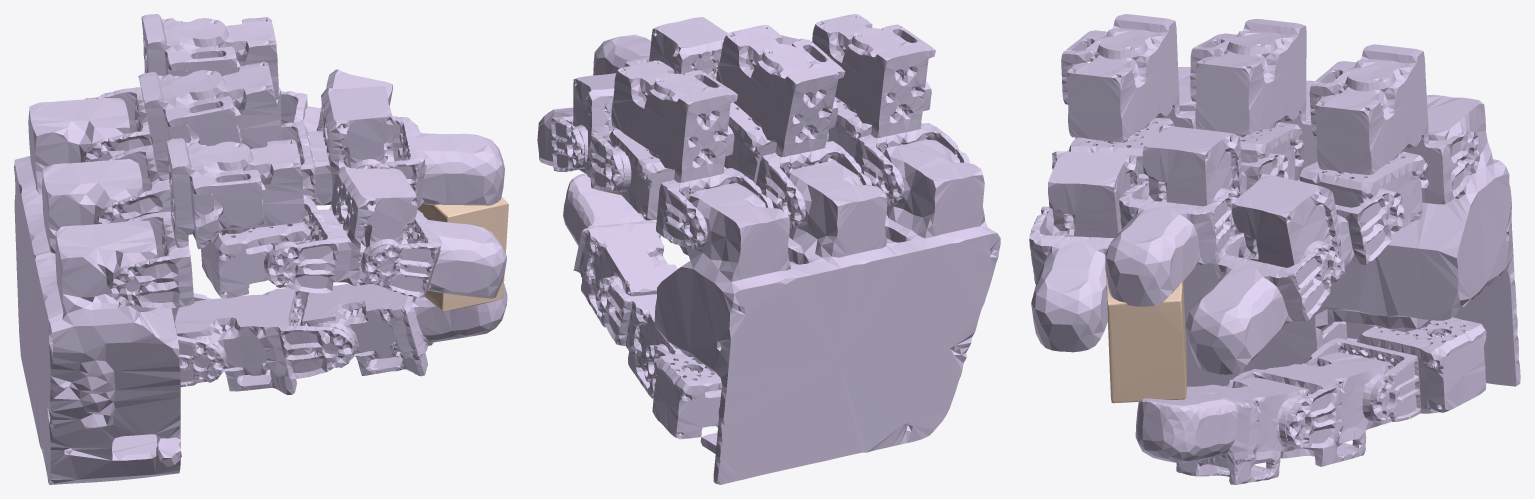
File: 327a14e99fb112-closed.glb
The picture shows the model from 3 angles, left to right: view 1: azimuth 30°, elevation 25°; view 2: azimuth 150°, elevation 25°; view 3: azimuth 270°, elevation 25°; orthographic projection. The views are drawn at different scales.
Visible parts, largest first — view 1: LEAP_hand, world; view 2: LEAP_hand; view 3: LEAP_hand, world.
Part boxes in pixels (x1=…): LEAP_hand: x1=14, y1=14, x2=507, y2=484; world: x1=417, y1=197, x2=508, y2=311; LEAP_hand: x1=537, y1=14, x2=1000, y2=484; LEAP_hand: x1=1029, y1=14, x2=1520, y2=484; world: x1=1106, y1=275, x2=1186, y2=403.
Bounding box in the file's own units: 0.1866 × 0.1449 × 0.163.
